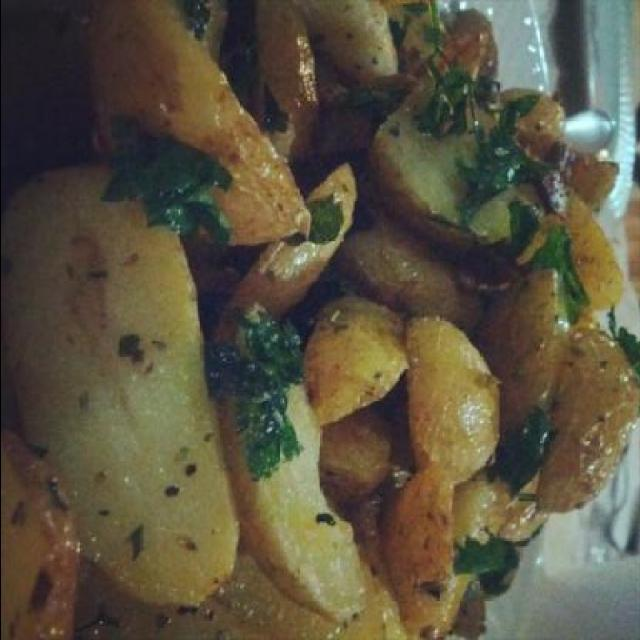Potato: (294, 291, 412, 435)
